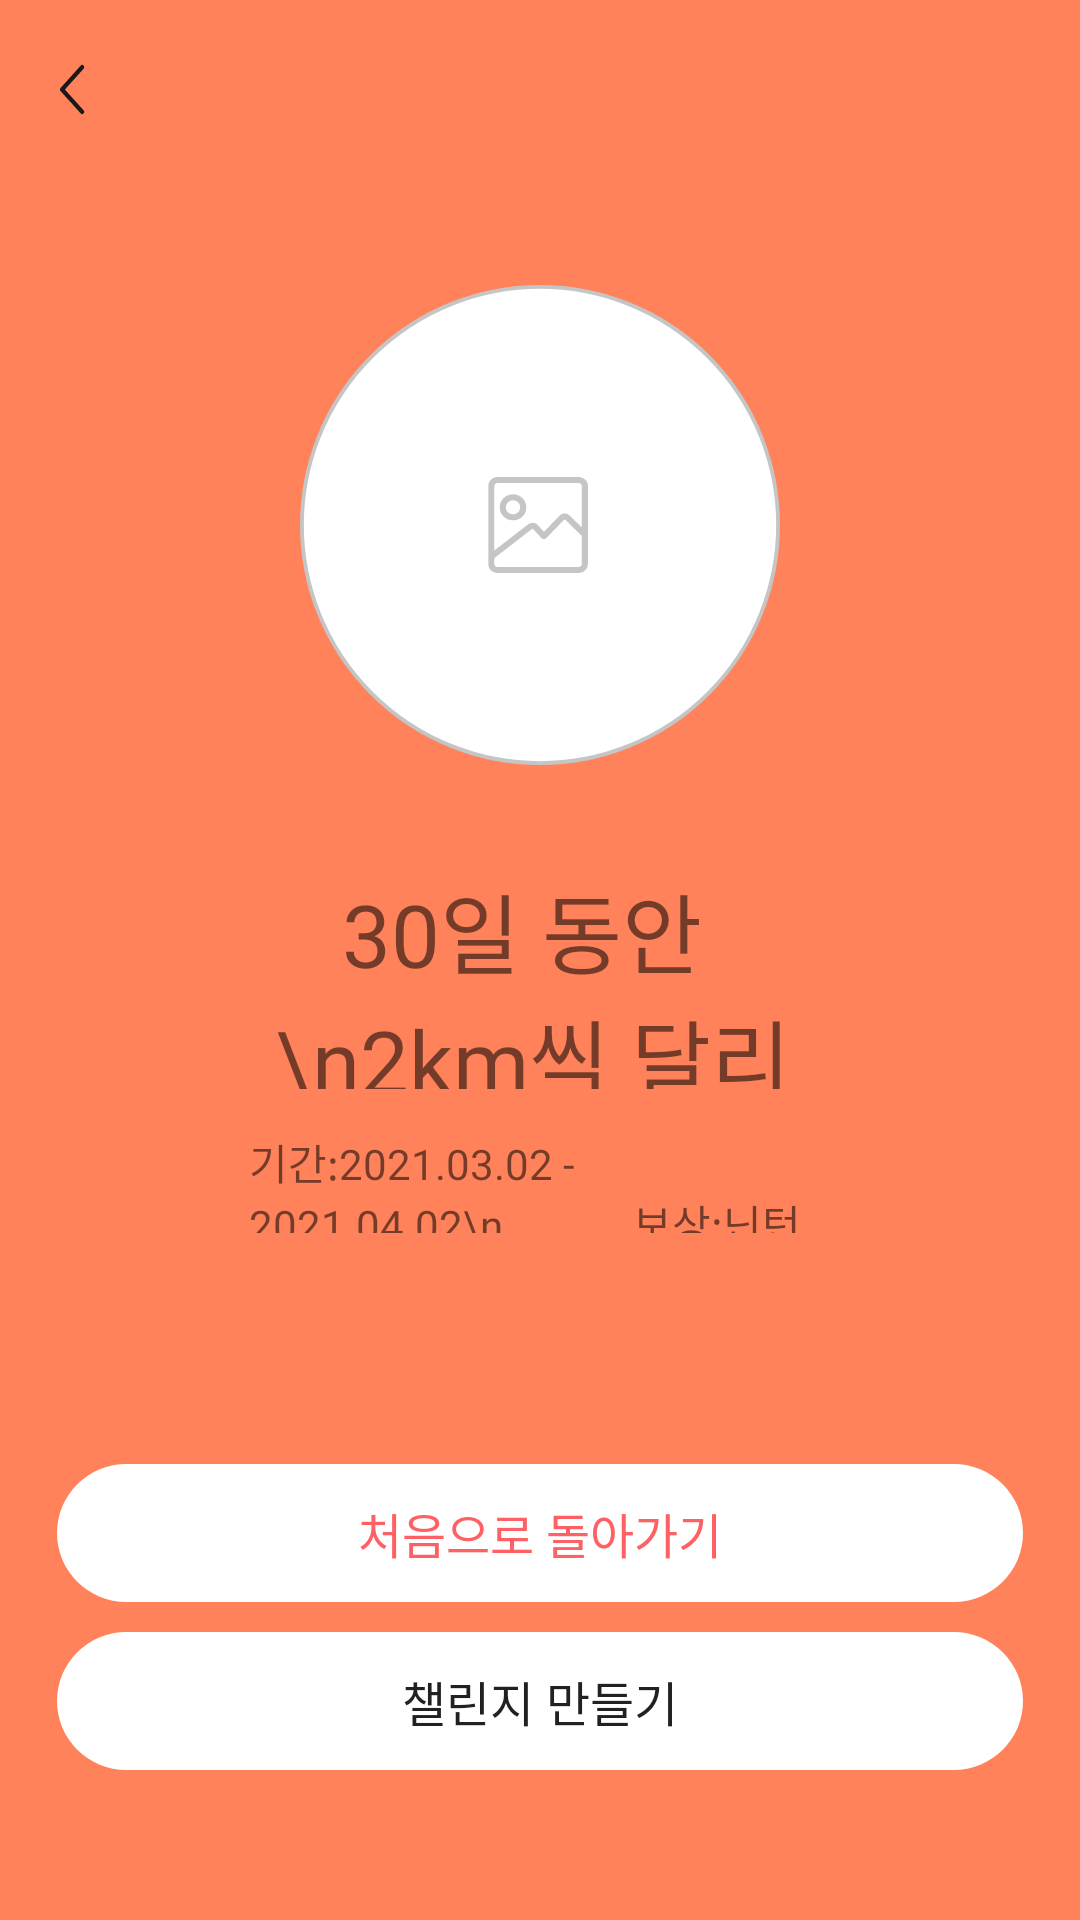

Point at icon controls on the screen. Image size 1080w x 1920h, points as (x=x, y=y).
back: (x=72, y=89)
